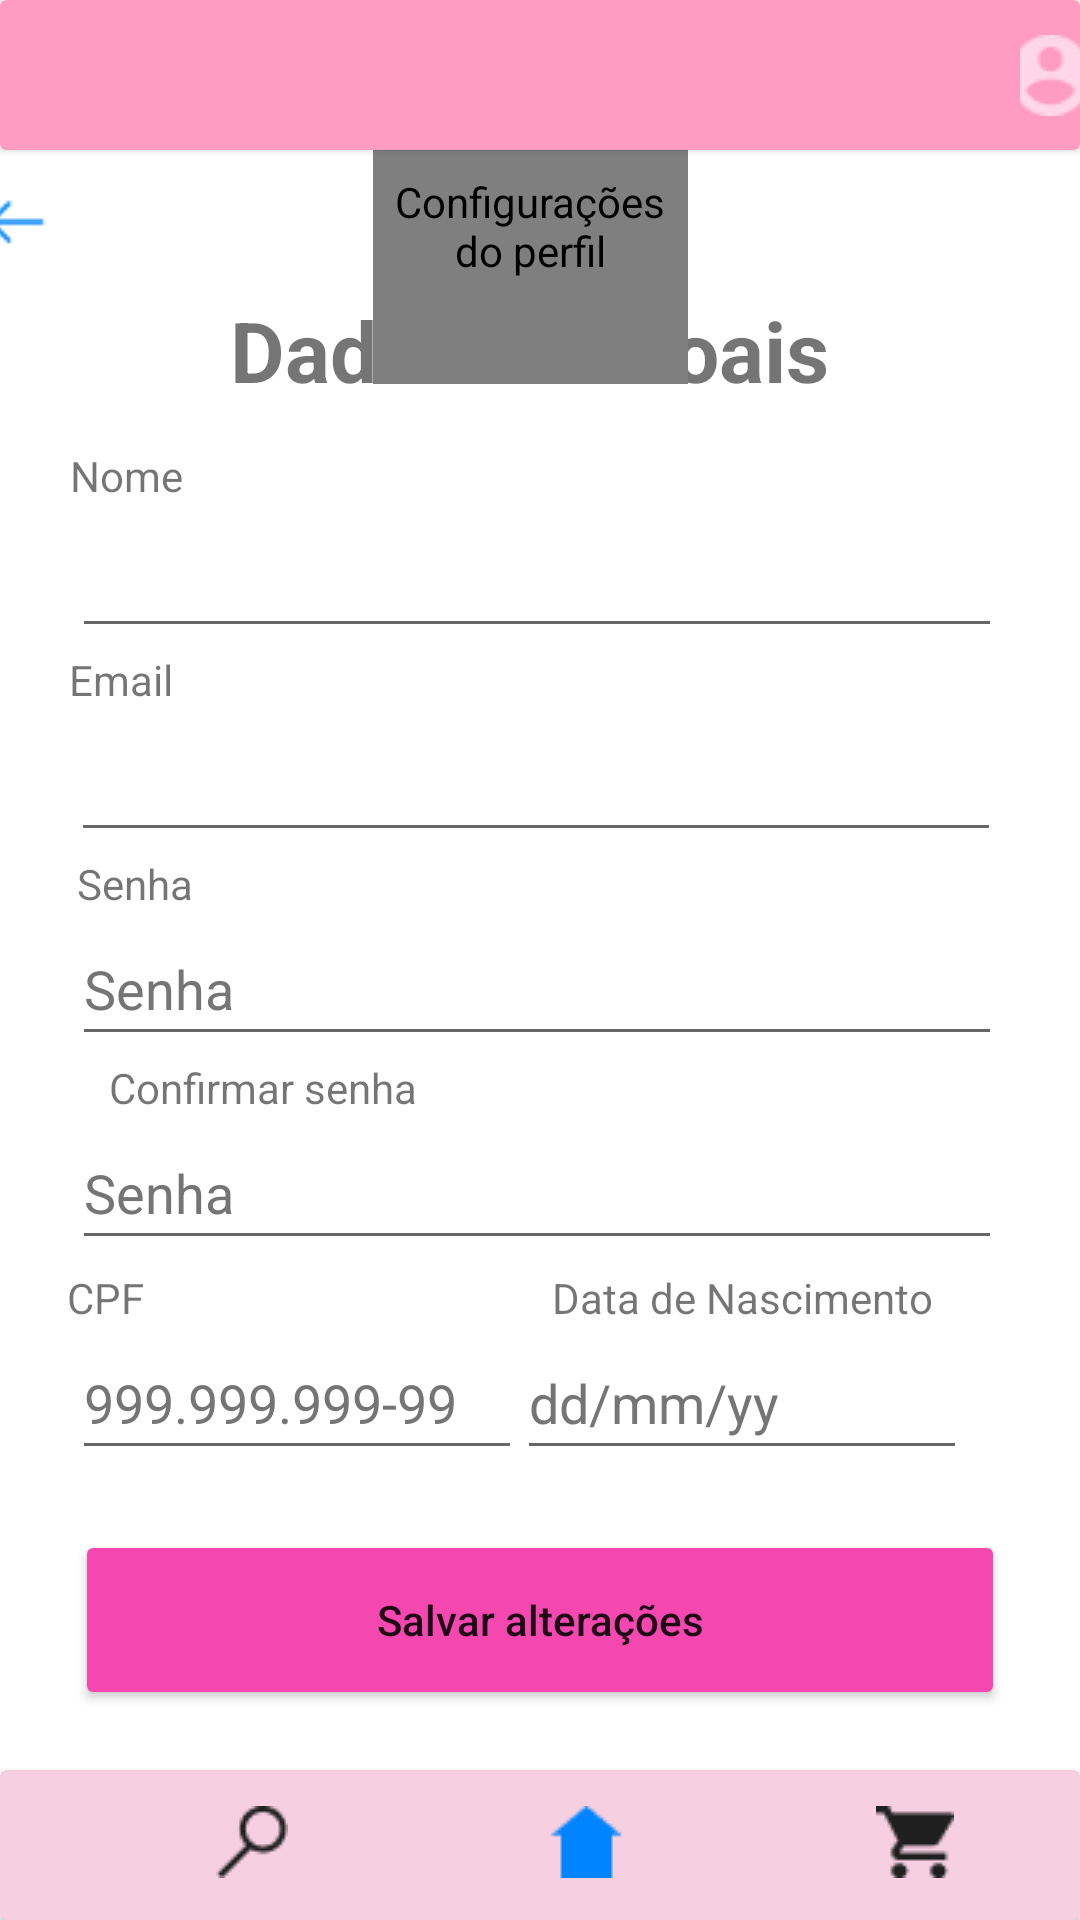

Icons on this 1080px x 1920px Android screen, each with its box as {"left": x1, "top": y1, "right": x2, "bottom": y2}:
Carrinho: {"left": 876, "top": 1806, "right": 954, "bottom": 1878}
Home: {"left": 551, "top": 1806, "right": 622, "bottom": 1878}
Login: {"left": 1020, "top": 35, "right": 1080, "bottom": 116}
Pesquisar: {"left": 216, "top": 1806, "right": 288, "bottom": 1878}
